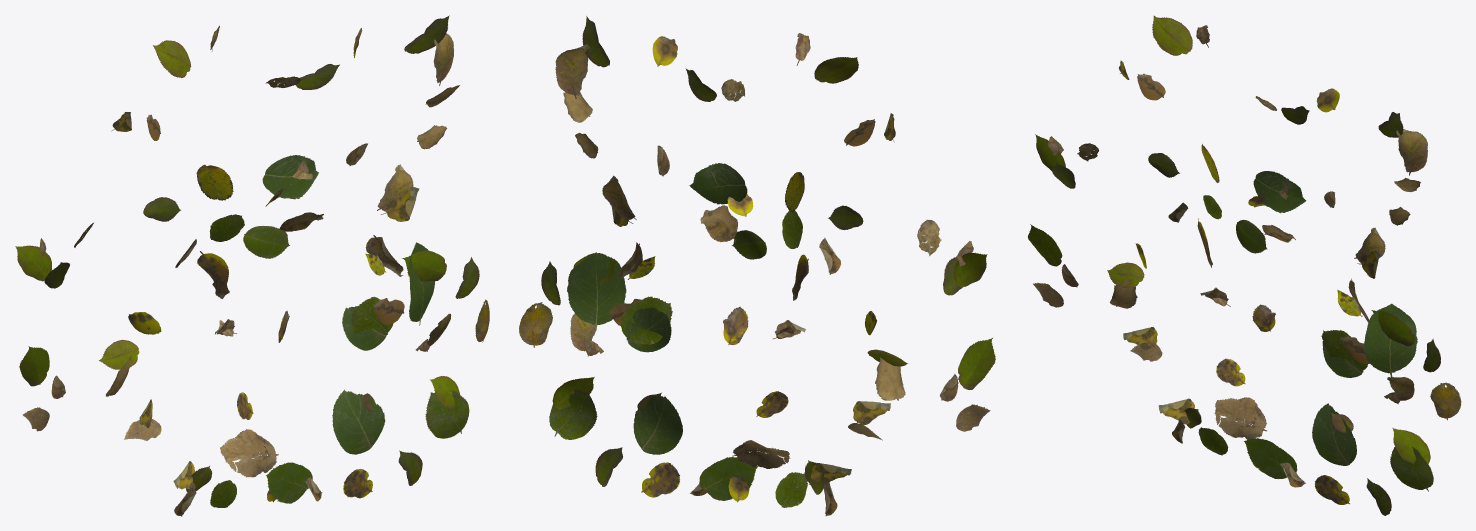
The model's file is Leaf_Pile_02_Var2_LOD0.fbx.
3 views of the same model, side by side, from view 1: azimuth 30°, elevation 25°; view 2: azimuth 150°, elevation 25°; view 3: azimuth 330°, elevation 25° (orthographic). The views are drawn at different scales.
Visible parts, largest first — view 1: Var2_LOD0; view 2: Var2_LOD0; view 3: Var2_LOD0.
Boxes of the visible parts, left/top/right/bottom form: Var2_LOD0: left=15, top=15, right=489, bottom=516; Var2_LOD0: left=519, top=16, right=995, bottom=516; Var2_LOD0: left=1028, top=15, right=1461, bottom=515.
Bounding box in the file's own units: 77.03 × 78.4 × 5.85.
